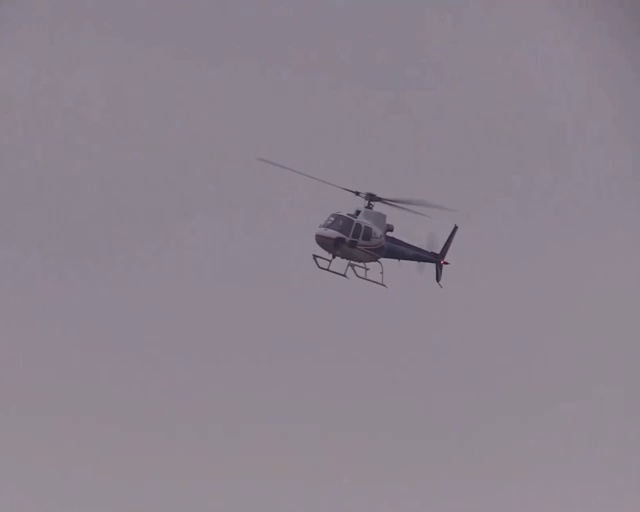HELICOPTER: (256, 157, 459, 292)
